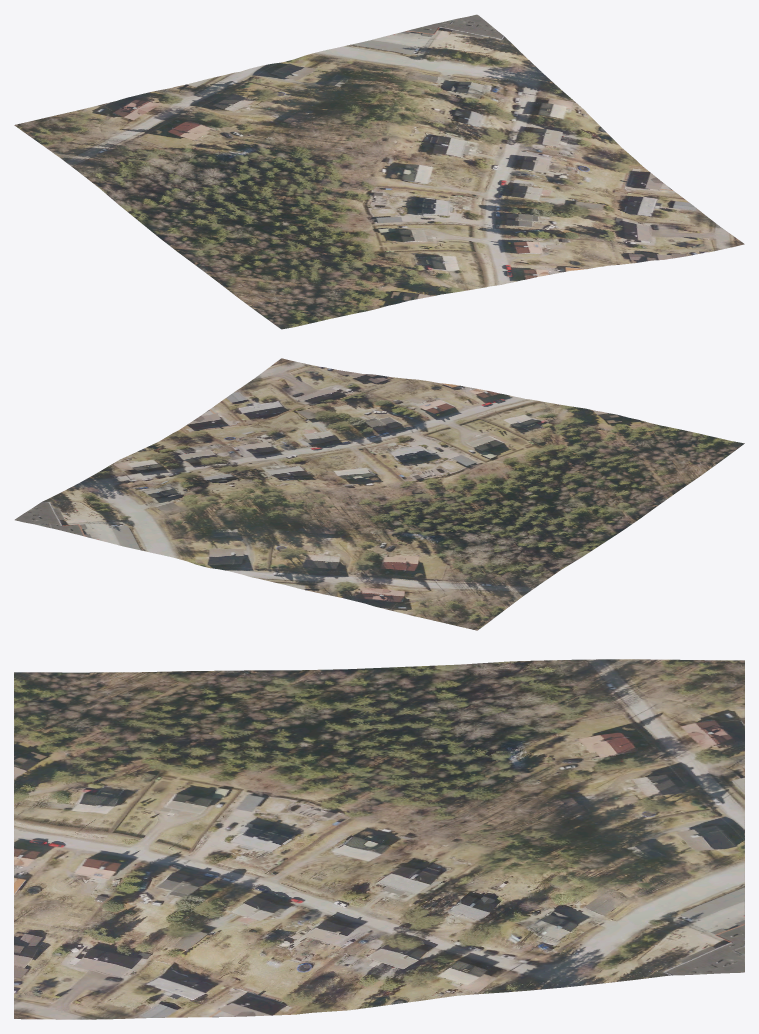
File: CM_Terrain_24490663_6821432.fbx
3 views of the same model, one above another, from view 1: azimuth 30°, elevation 25°; view 2: azimuth 150°, elevation 25°; view 3: azimuth 270°, elevation 25° (orthographic). The views are drawn at different scales.
Parts seen in each view (by area): view 1: CM_Terrain_24490663_6821432_LOD0; view 2: CM_Terrain_24490663_6821432_LOD0; view 3: CM_Terrain_24490663_6821432_LOD0.
Boxes of the visible parts, box(x1,y1,x2,y2) form: CM_Terrain_24490663_6821432_LOD0: box(14, 14, 744, 329); CM_Terrain_24490663_6821432_LOD0: box(14, 358, 744, 630); CM_Terrain_24490663_6821432_LOD0: box(14, 659, 744, 1019).
Size of what is drawn, in the model's own units: 205 by 16.8 by 205.
